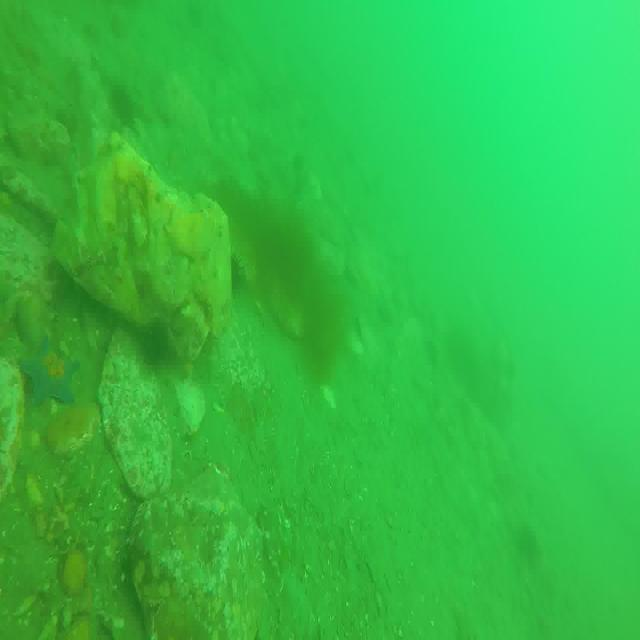echinus: (143, 319, 174, 370), (222, 257, 242, 292)
starfish: (20, 337, 80, 408)
